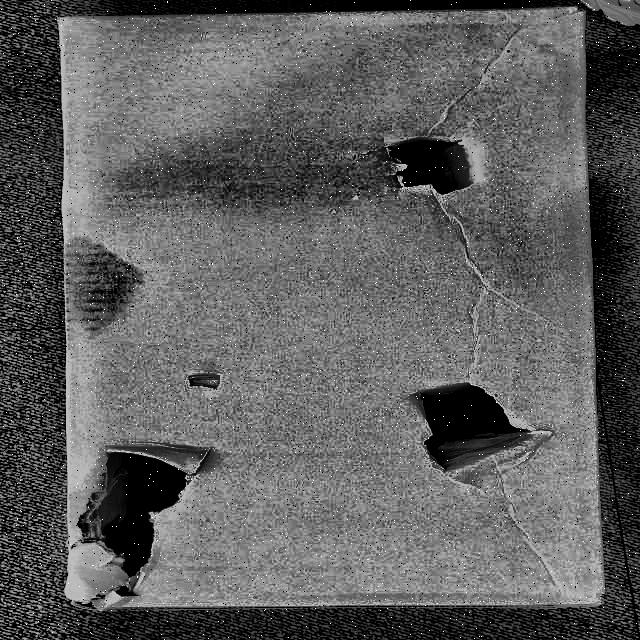box: (56, 6, 611, 611)
hole: (62, 448, 201, 598), (408, 381, 557, 476), (377, 130, 493, 196)
wet: (64, 230, 151, 347)
